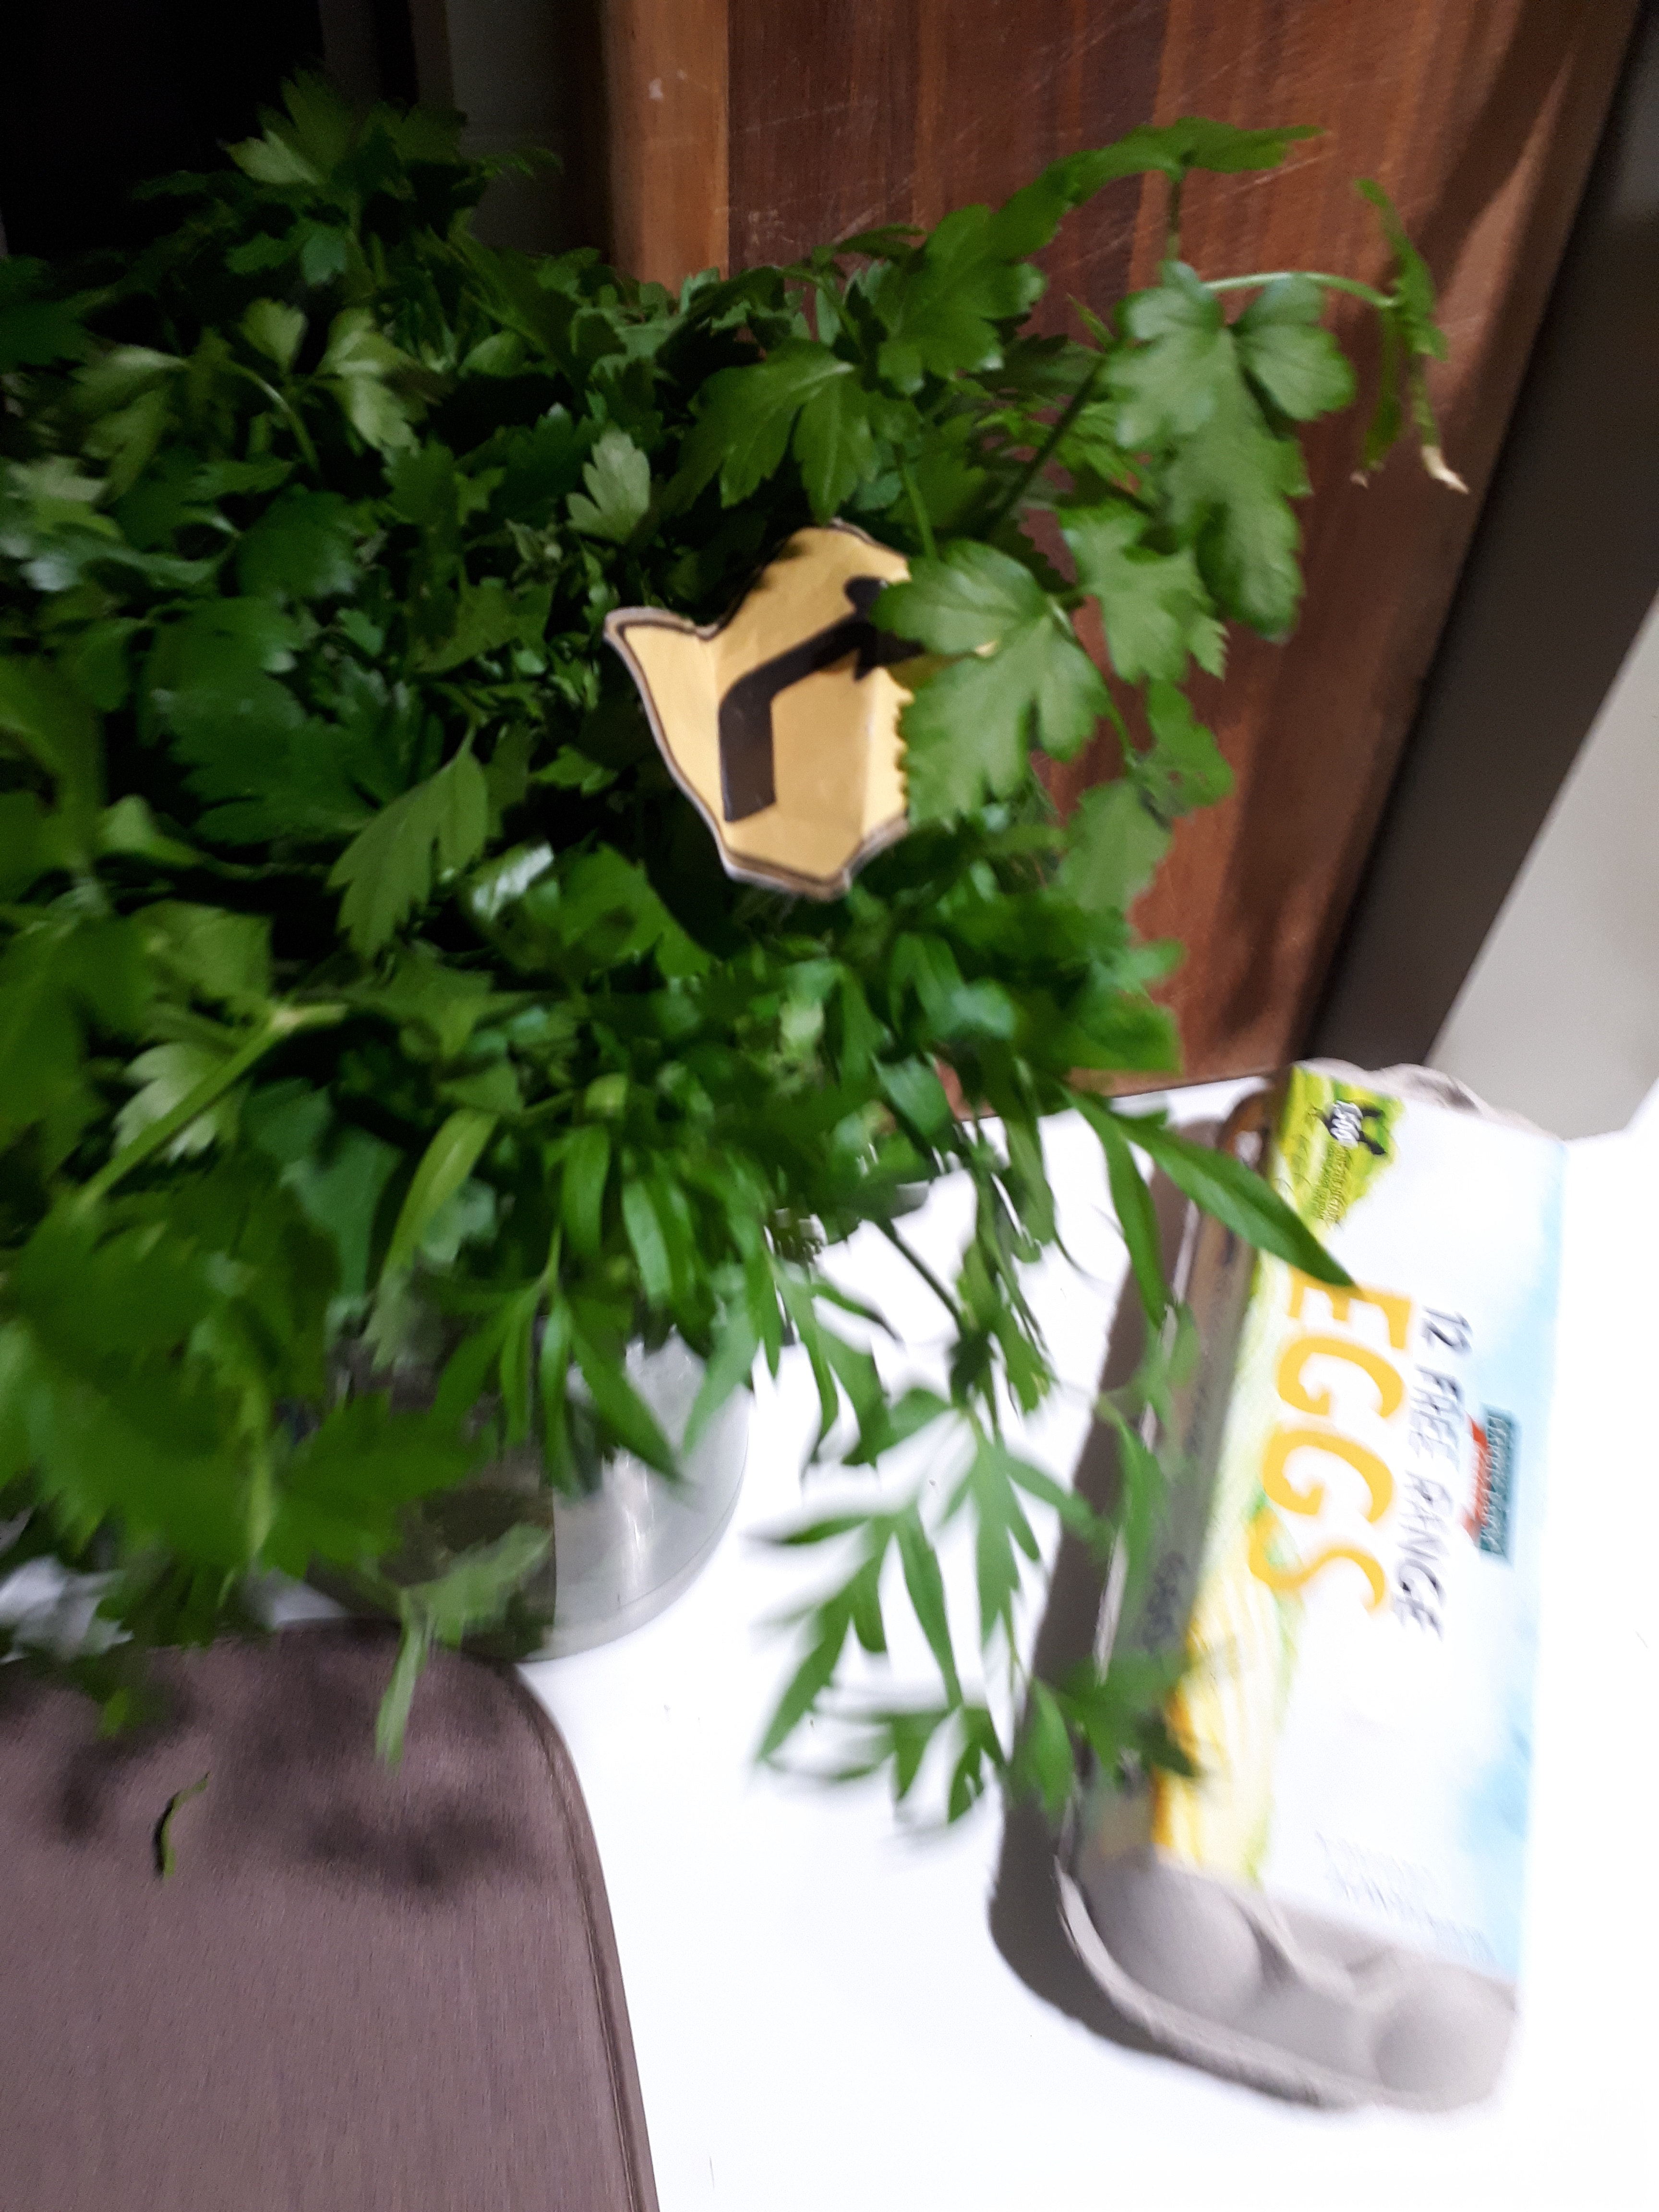right: (547, 514, 1053, 883), (671, 582, 946, 801)
